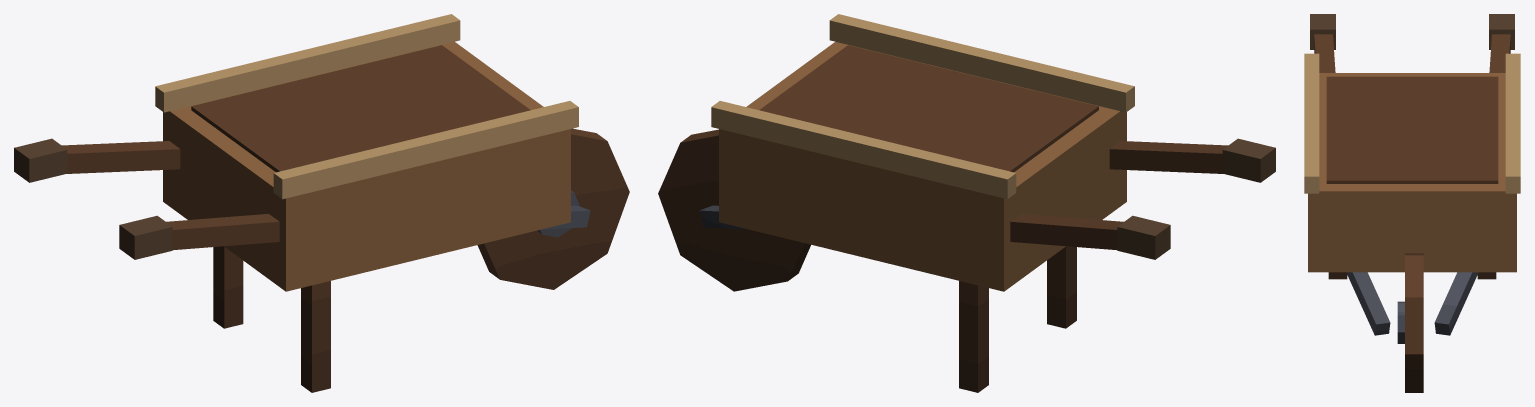
The model's file is wheelbarrow.glb.
The picture shows the model from 3 angles, left to right: view 1: azimuth 30°, elevation 25°; view 2: azimuth 150°, elevation 25°; view 3: azimuth 270°, elevation 25°; orthographic projection. The views are drawn at different scales.
Size of the model in its own units: 1.45 by 0.59 by 0.58.
1 material, 1 textured.
